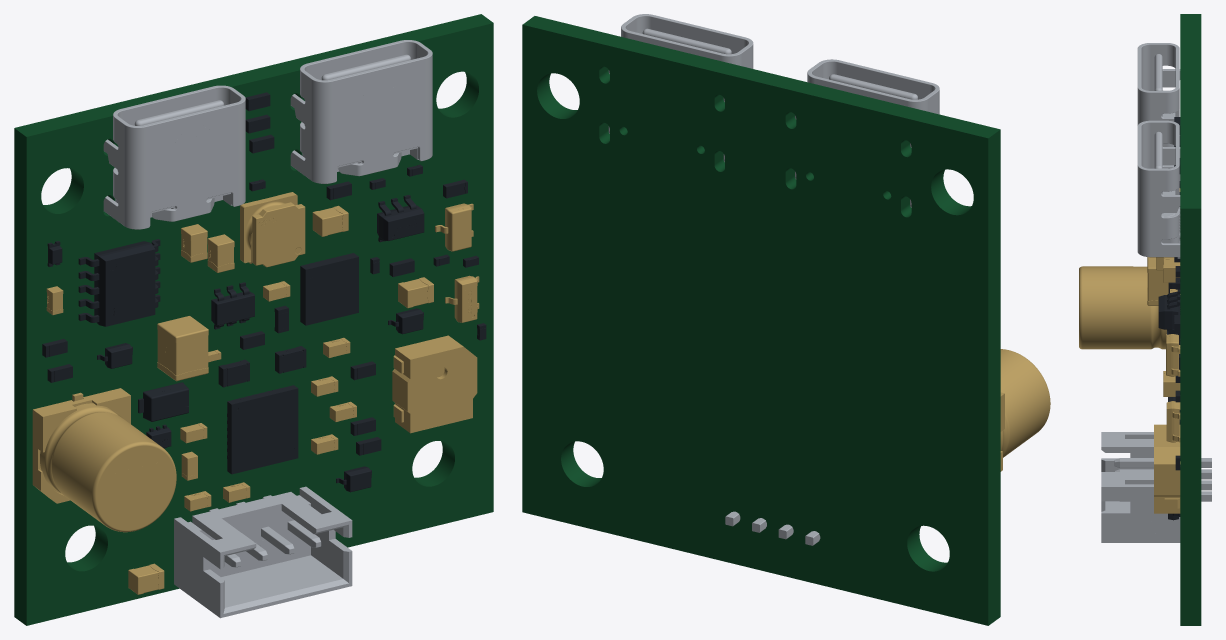
Rendered from controller.glb.
3 views of the same model, side by side, from view 1: azimuth 30°, elevation 25°; view 2: azimuth 150°, elevation 25°; view 3: azimuth 270°, elevation 25° (orthographic). The views are drawn at different scales.
Visible parts, largest first — view 1: PCB, J_MOTOR, J_PD, J_DATA, C_BULK, BZ_ALARM, U_PD, U_DRV, L_BUCK, U_MCU, C_BUCK_IN, U_ESD (+14 smaller); view 2: PCB, C_BULK, J_PD, J_DATA, J_MOTOR; view 3: PCB, J_MOTOR, C_BULK, J_DATA, J_PD, BZ_ALARM, C_BUCK_IN, U_ESD, Q_DATA, Q_BUZZER, C_BUCK_OUT3, C_BUZZER.
Boxes of the visible parts, bbox=[...] form: PCB: bbox=[14, 14, 493, 625]; J_MOTOR: bbox=[174, 486, 352, 618]; J_PD: bbox=[103, 85, 245, 229]; J_DATA: bbox=[290, 40, 432, 183]; C_BULK: bbox=[32, 388, 176, 532]; BZ_ALARM: bbox=[392, 335, 477, 433]; U_PD: bbox=[78, 239, 160, 326]; U_DRV: bbox=[227, 385, 298, 474]; L_BUCK: bbox=[240, 192, 305, 267]; U_MCU: bbox=[300, 253, 358, 325]; C_BUCK_IN: bbox=[157, 316, 208, 381]; U_ESD: bbox=[377, 195, 424, 242]; PCB: bbox=[522, 16, 1000, 625]; C_BULK: bbox=[1000, 349, 1050, 471]; J_PD: bbox=[795, 59, 939, 207]; J_DATA: bbox=[608, 14, 753, 161]; J_MOTOR: bbox=[725, 511, 820, 545]; PCB: bbox=[1180, 14, 1201, 625]; J_MOTOR: bbox=[1101, 432, 1211, 542]; C_BULK: bbox=[1079, 266, 1166, 349]; J_DATA: bbox=[1137, 120, 1180, 258]; J_PD: bbox=[1137, 43, 1180, 180]; BZ_ALARM: bbox=[1154, 424, 1180, 513]; C_BUCK_IN: bbox=[1147, 257, 1168, 305]; U_ESD: bbox=[1158, 289, 1180, 335]; Q_DATA: bbox=[1166, 334, 1180, 376]; Q_BUZZER: bbox=[1166, 401, 1180, 442]; C_BUCK_OUT3: bbox=[1163, 257, 1180, 282]; C_BUZZER: bbox=[1163, 371, 1180, 396].
Bounding box in the file's own units: 35 × 35.4 × 10.1.
